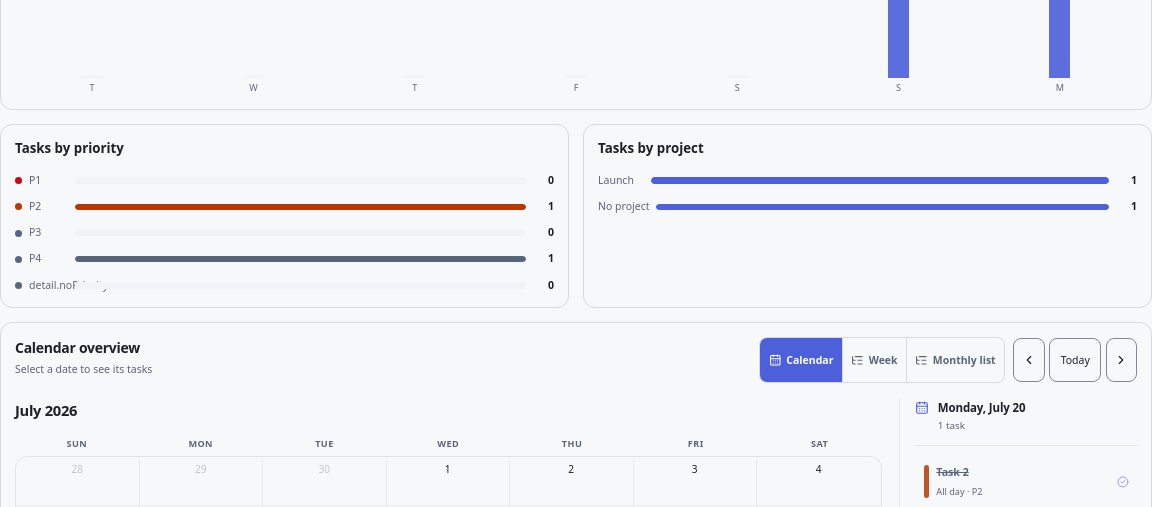
SummaryDashboard › shows a Summary dashboard with period controls, trend, priority, project, and calendar panels
The image size is (1152, 507).
(page scrolled)
Check: the heading "Calendar overview" is shown, box top-left (15, 337), bottom-right (152, 358)
Click the button with test id "summary-view-list" at (956, 360), box top-left (907, 338), bottom-right (1004, 382)
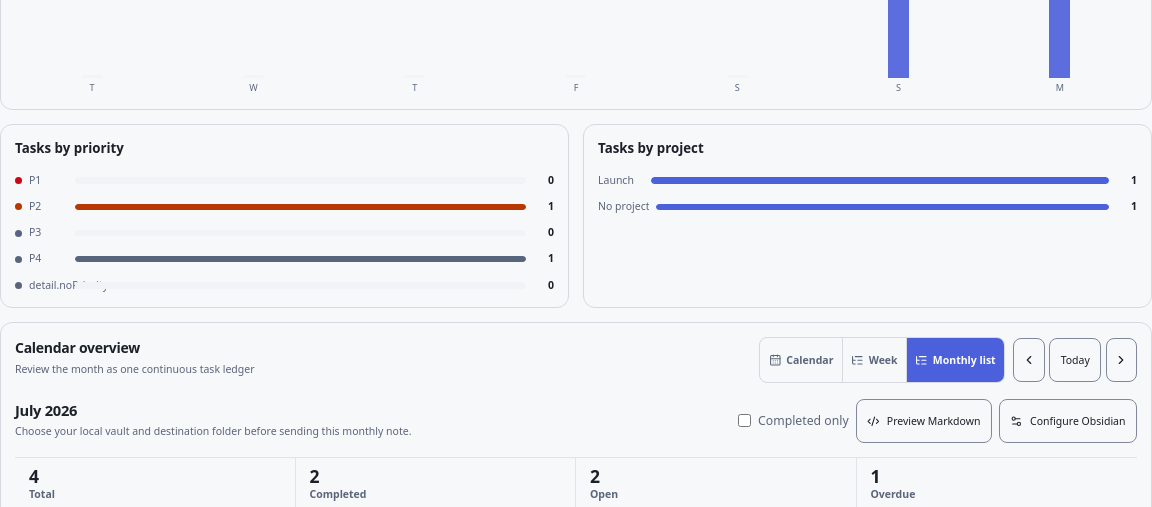
Check: the list item with test id "summary-month-total" shows "4", box top-left (29, 464), bottom-right (38, 488)
